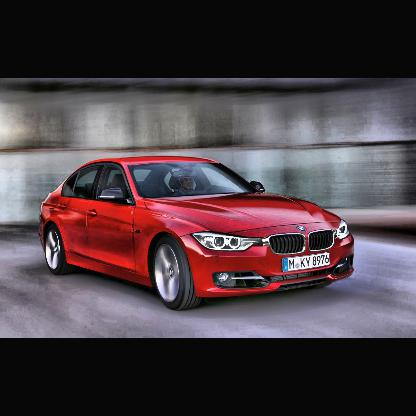BMW 3 Series Sedan 2012: (33, 147, 372, 307)
